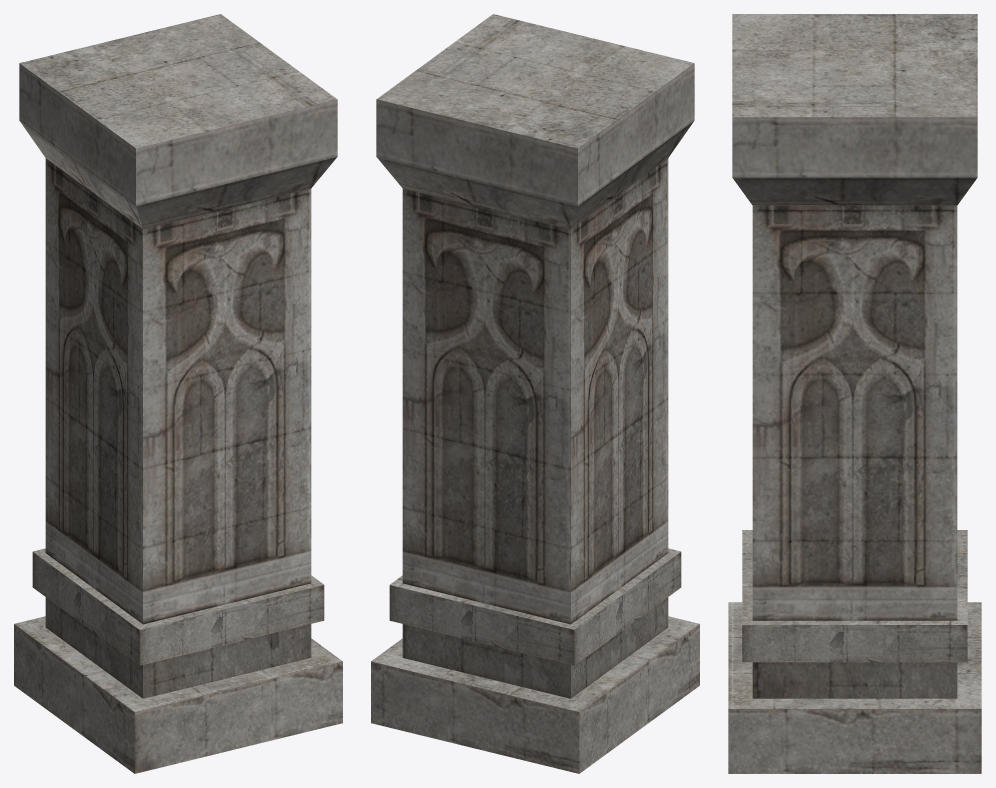
The model's file is bg_lut_lucastle_churchinpillar01_sm_phs.FBX.
The picture shows the model from 3 angles, left to right: view 1: azimuth 30°, elevation 25°; view 2: azimuth 150°, elevation 25°; view 3: azimuth 270°, elevation 25°; orthographic projection. The views are drawn at different scales.
Parts seen in each view (by area): view 1: bg_lut_lucastle_churchinpillar01_sm_phs; view 2: bg_lut_lucastle_churchinpillar01_sm_phs; view 3: bg_lut_lucastle_churchinpillar01_sm_phs.
Boxes of the visible parts, <box> form: bg_lut_lucastle_churchinpillar01_sm_phs: <box>14,14,342,773</box>; bg_lut_lucastle_churchinpillar01_sm_phs: <box>371,14,699,773</box>; bg_lut_lucastle_churchinpillar01_sm_phs: <box>728,14,981,773</box>.
Size of the model in its own units: 101 by 288 by 101.
